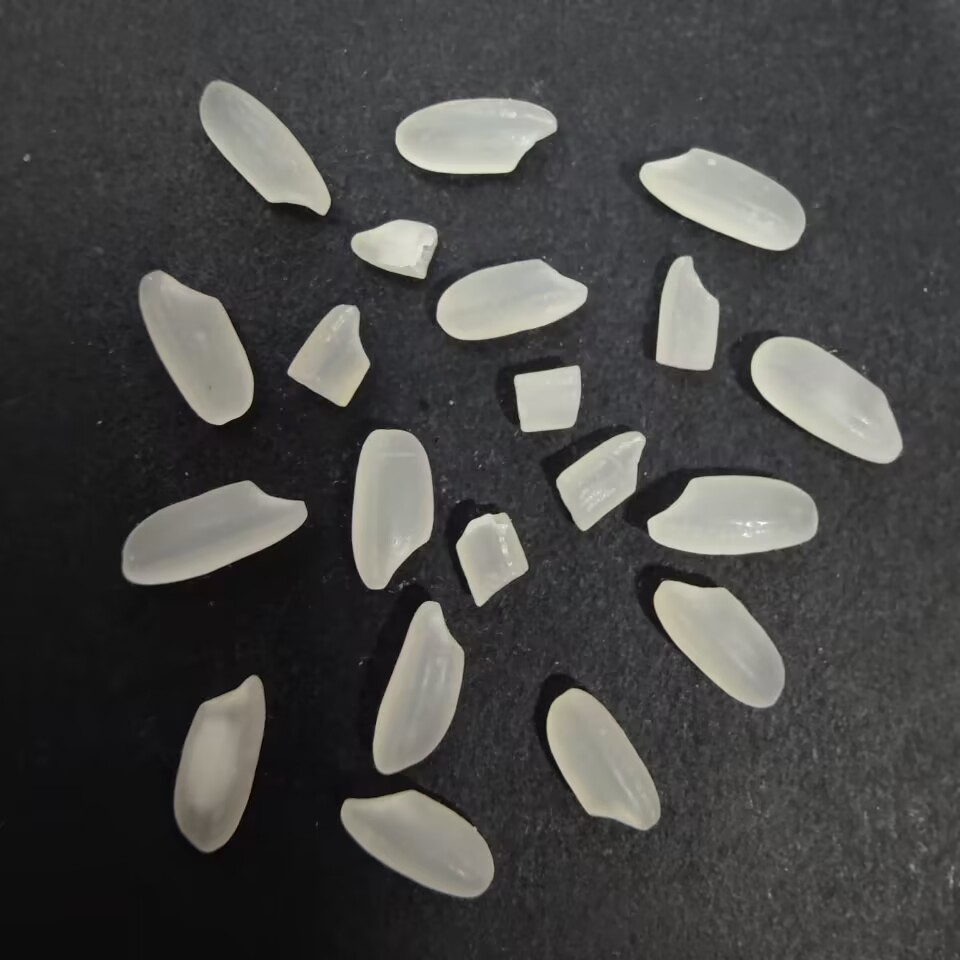broken: (550, 428, 654, 535), (280, 300, 378, 411), (646, 253, 730, 373), (450, 506, 535, 608), (345, 216, 443, 285), (505, 363, 588, 437)
rice: (115, 472, 314, 592), (747, 332, 908, 470), (133, 264, 258, 431), (634, 144, 814, 255), (191, 77, 334, 216), (648, 574, 792, 712), (336, 788, 505, 904), (363, 597, 469, 778), (169, 669, 267, 856), (542, 686, 665, 834), (640, 469, 830, 559), (349, 422, 442, 596), (387, 92, 565, 177), (430, 255, 592, 347)
